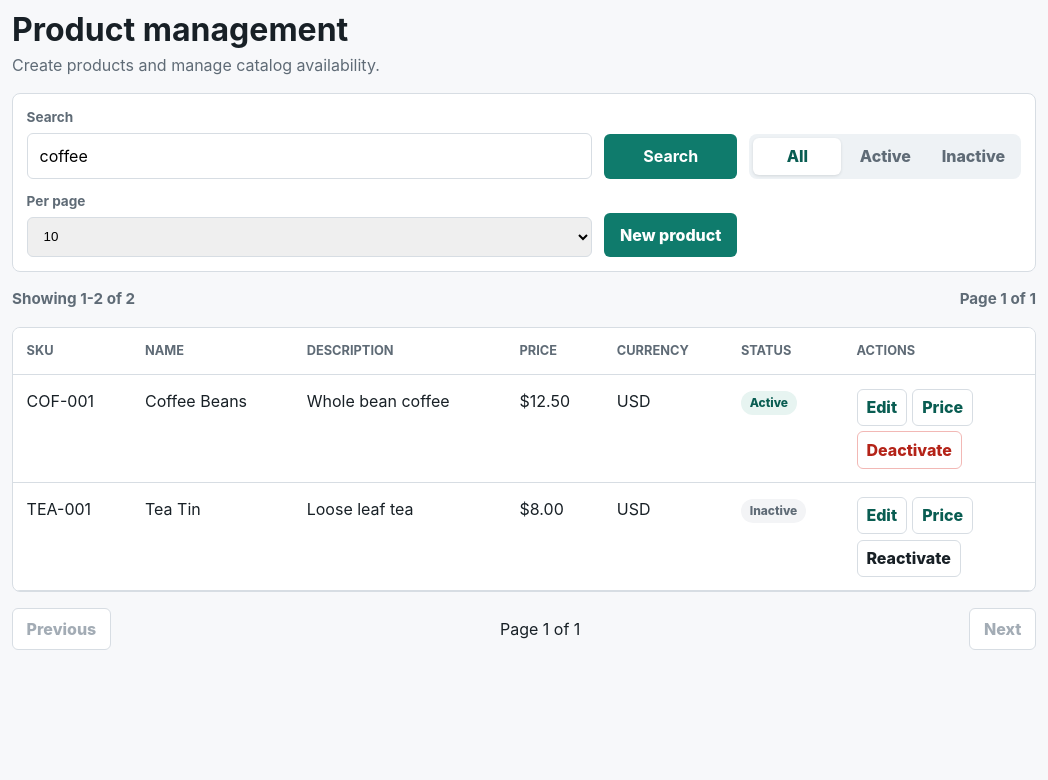
AdminProductsPageComponent › deactivates active products and refreshes the list after confirmation
Click the button with class "danger-button": (909, 450) [857,432,962,469]
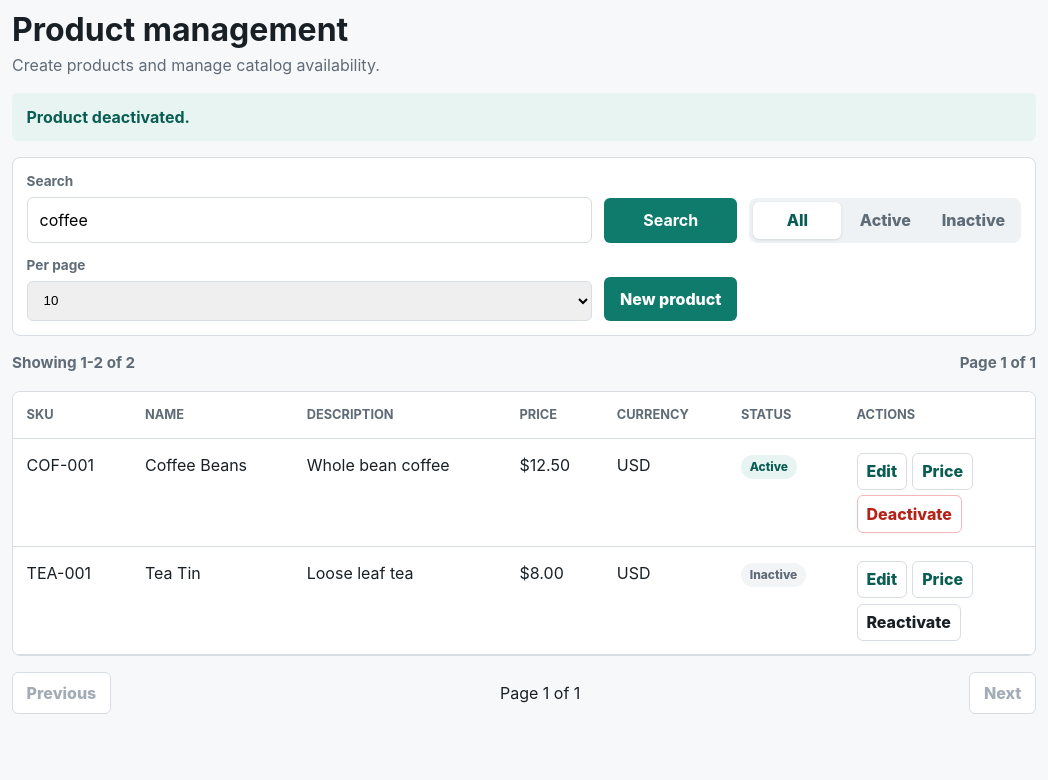
Now the text "Product deactivated." is shown, box [12,93,1036,141]
